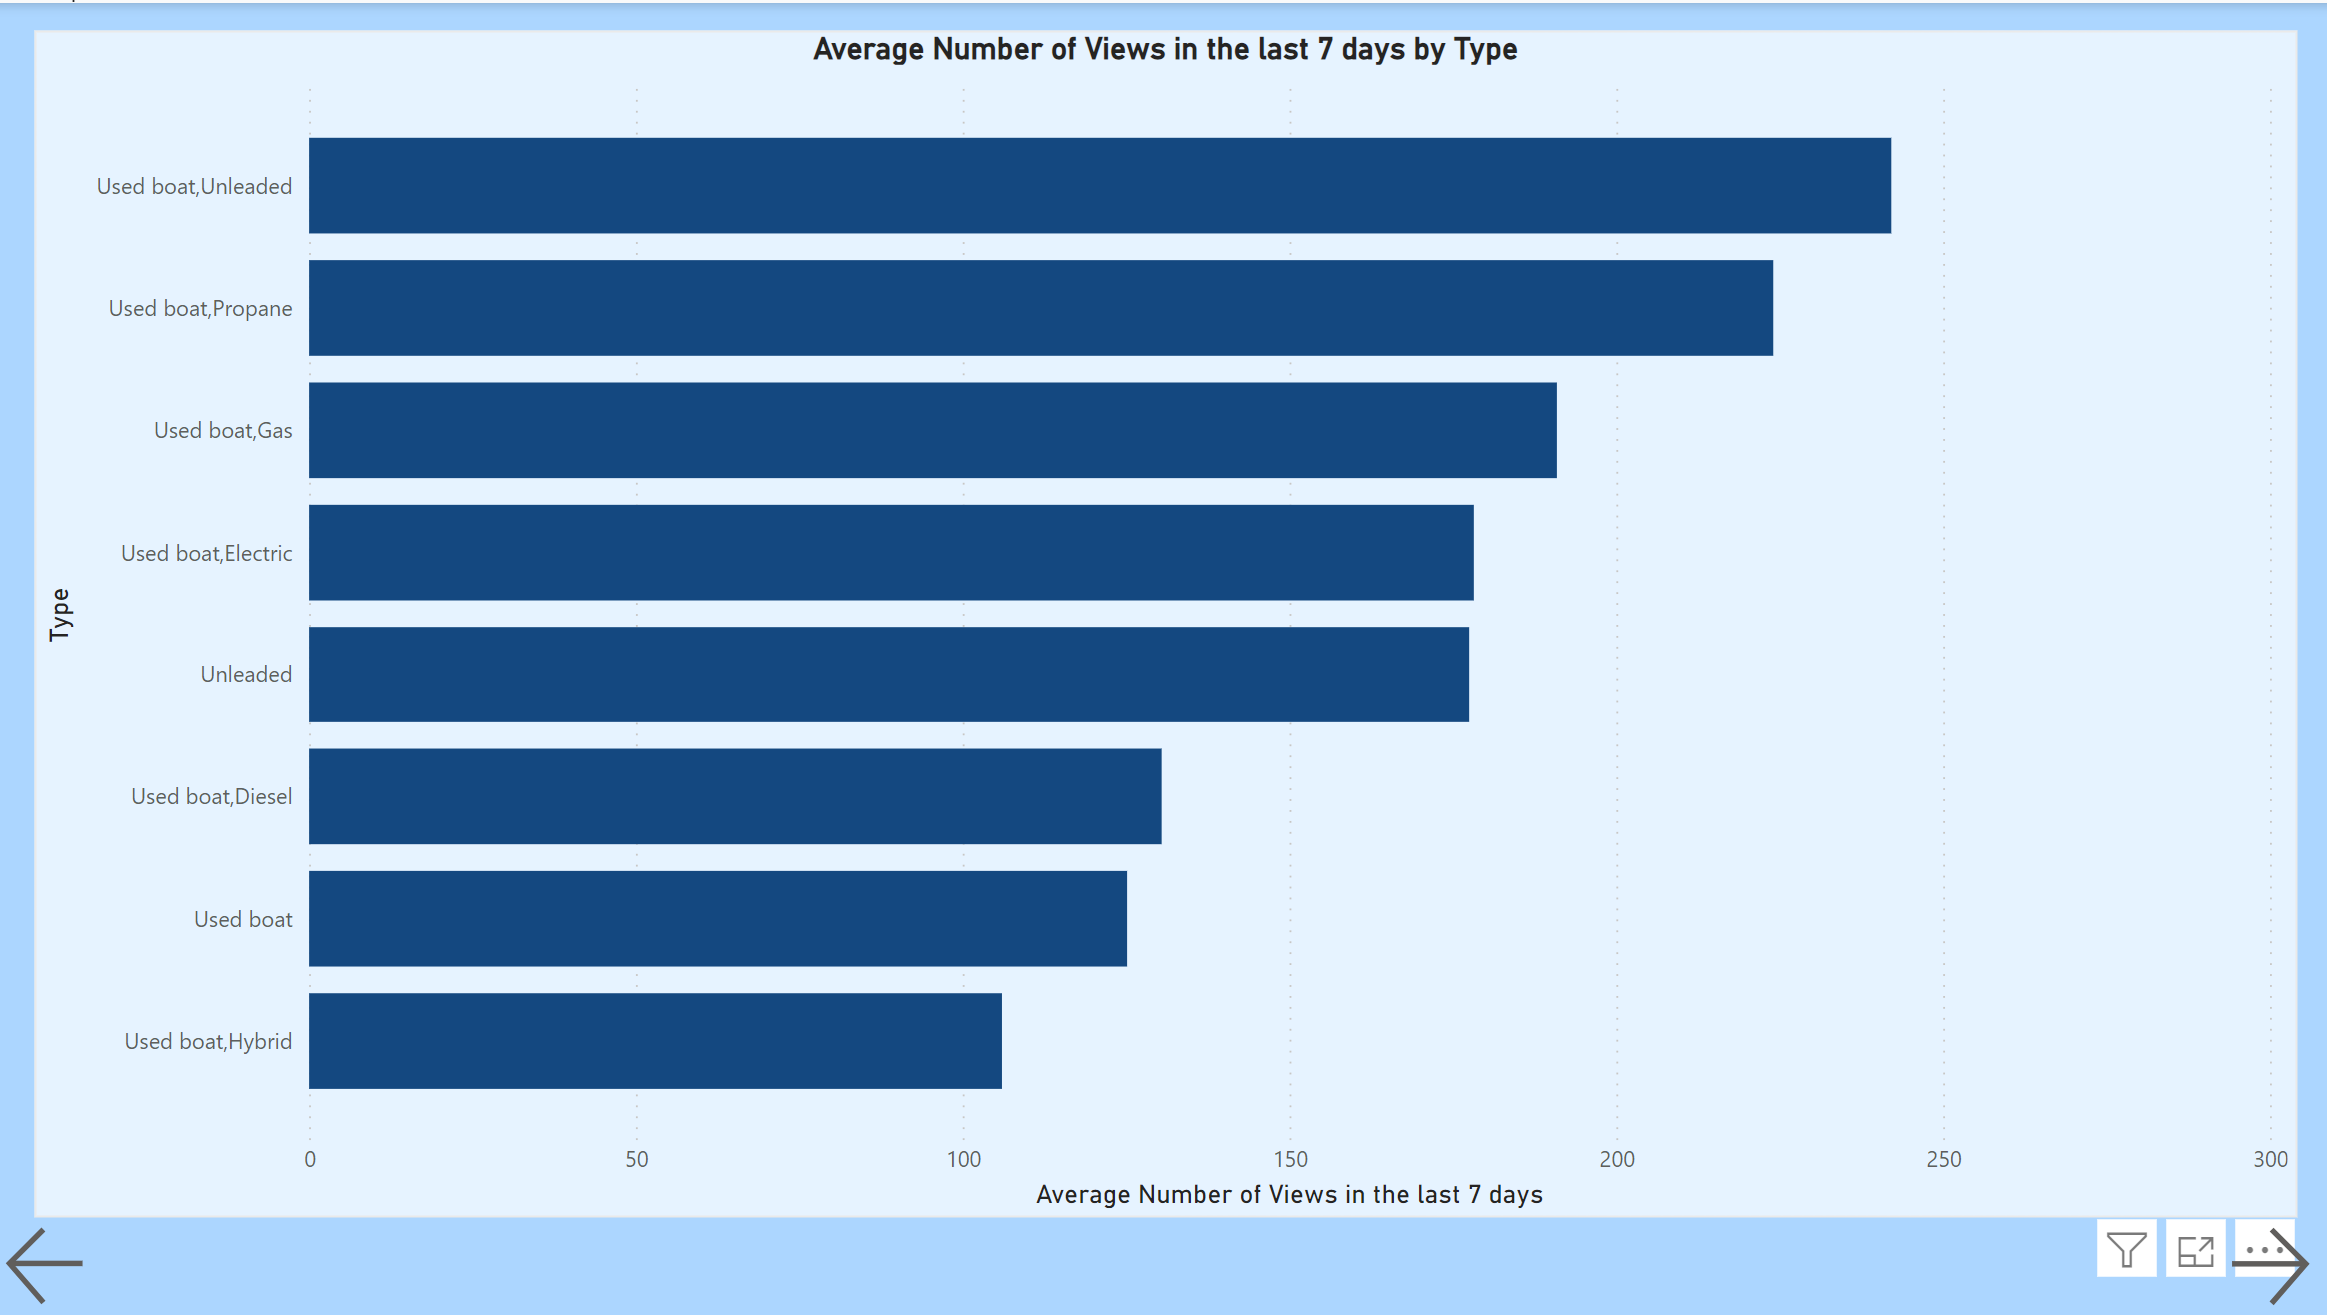

What the dashboard file says about the page in this screenshot:
{"tool":"powerbi","page":{"name":"Page 2","canvas":[1280,720],"ordinal":2},"visuals":[{"type":"barChart","title":"Average Number of Views in the last 7 days by Type","fields":{"Y":["Avg(boat_data_clean.Number of views last 7 days)"],"Category":["boat_data_clean.Type"]},"box":[20.6,15.1,1240.8,651.2],"z":0},{"type":"actionButton","box":[1219.3,665.7,60.3,54.3],"z":1000},{"type":"actionButton","box":[0,666.2,68.5,53.8],"z":2000}]}

Visuals, with their boxes in screenshot pixels (x1, y1, x2, y2), scaled from the page's 1280x720 canvas onto the 2327x1315 screenshot:
"Average Number of Views in the last 7 days by Type" barChart: l=37, t=28, r=2293, b=1217
actionButton: l=2217, t=1216, r=2326, b=1314
actionButton: l=0, t=1217, r=125, b=1314
